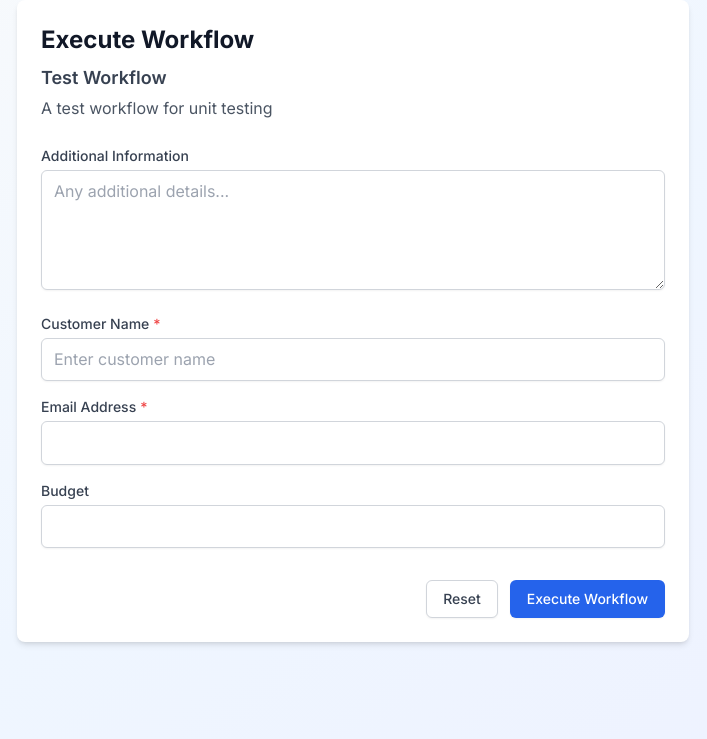
WorkflowExecutionForm › shows success message after successful submission
Type "John Doe" into the field labelled "Customer Name*". click: (353, 359)
box: [41,338,665,381]
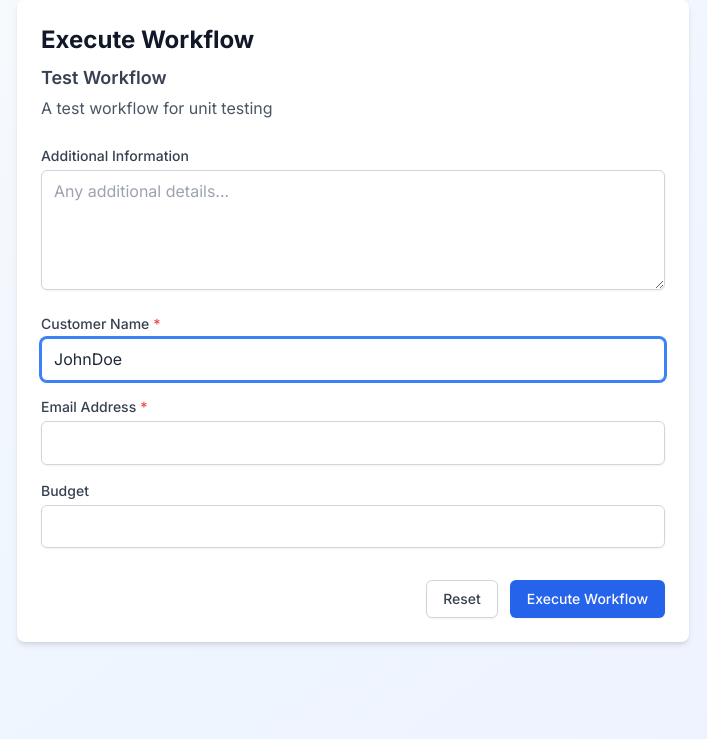
Type "john@example.com" into the field labelled "Email Address*". click: (353, 443)
box: [41,421,665,465]
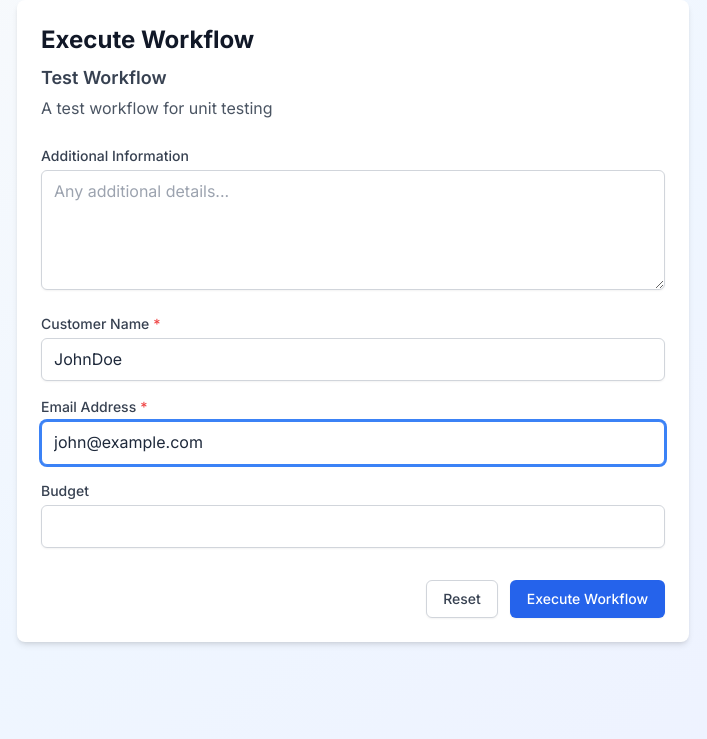
Click the button "Execute Workflow". click: (587, 599)
box: [510,580,665,618]
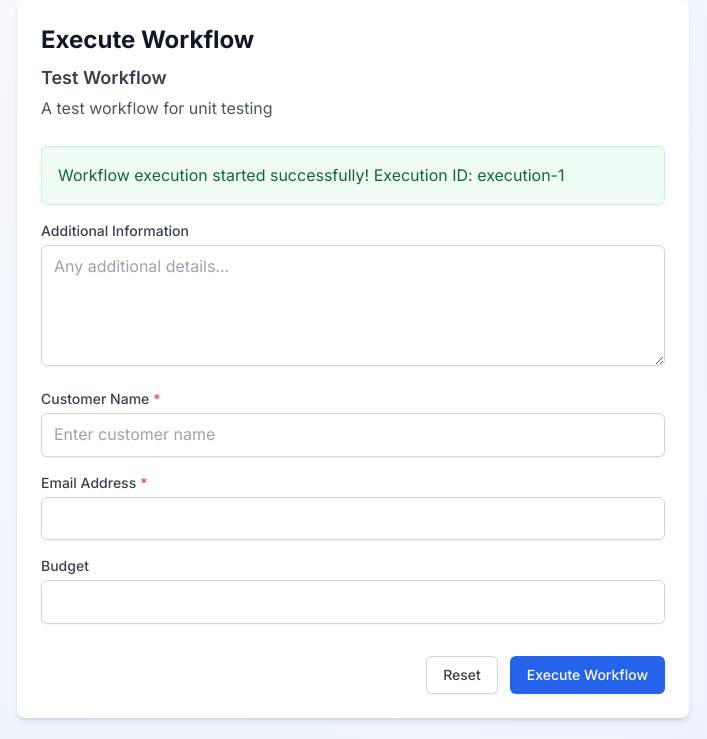
Now the text "Workflow execution started successfully! Execution ID: execution-1" is shown, box [58,163,648,188]
